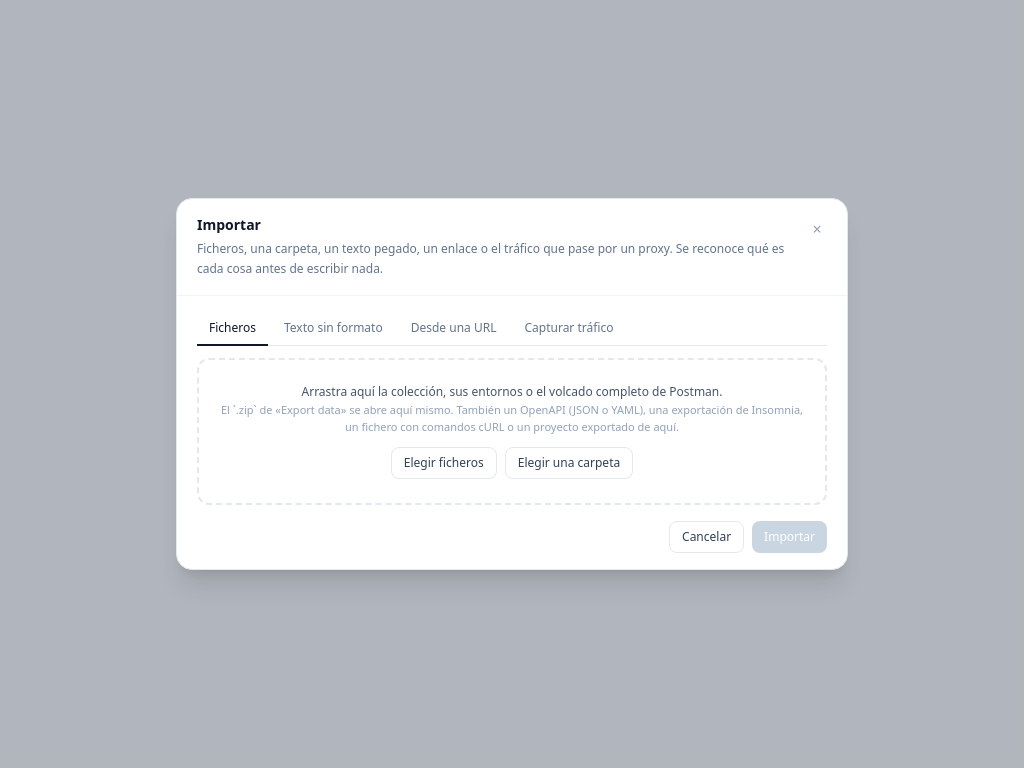
Test case: descifrar HTTPS › sin poder usarse, la opción sale desactivada con el motivo
The width and height of the screenshot is (1024, 768).
Click the button "Capturar tráfico". click: click(569, 329)
box: [512,312,626,346]
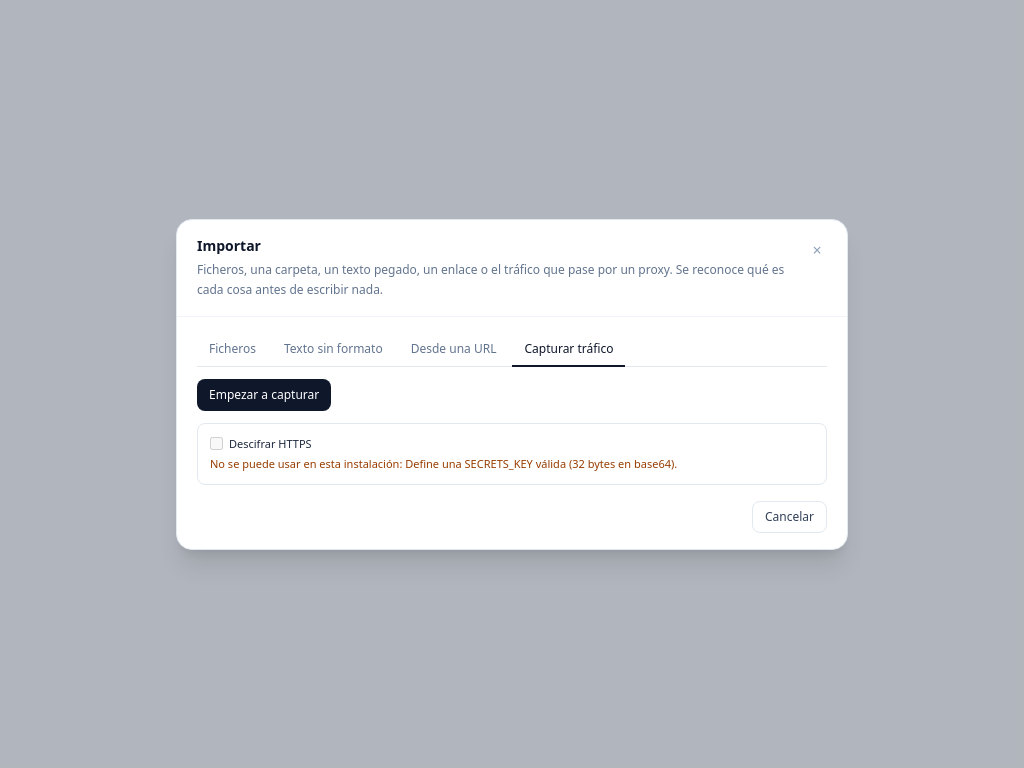
expect the checkbox labelled "Descifrar HTTPS" is disabled: met, box [210,437,223,450]
expect the text "SECRETS_KEY válida" is shown: met, box [405,456,677,470]
